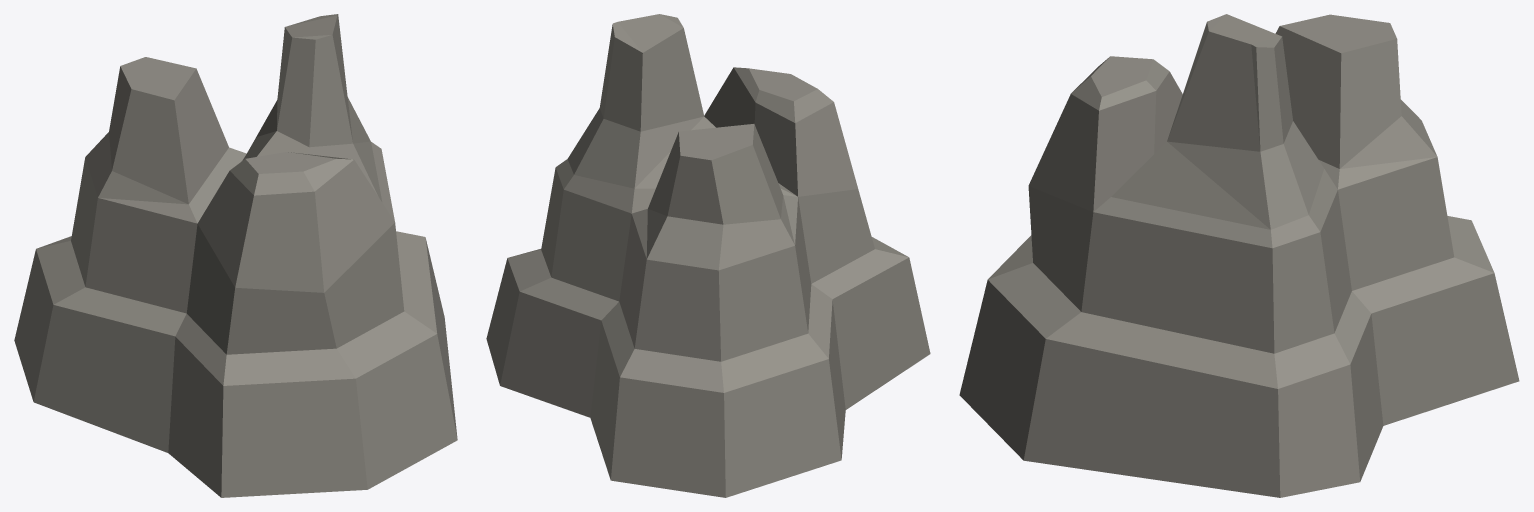
The model's file is Rock_Round_l_07.fbx.
3 views of the same model, side by side, from view 1: azimuth 30°, elevation 25°; view 2: azimuth 150°, elevation 25°; view 3: azimuth 270°, elevation 25° (orthographic). The views are drawn at different scales.
Visible parts, largest first — view 1: Rock_Round_l_07; view 2: Rock_Round_l_07; view 3: Rock_Round_l_07.
Part boxes in pixels (x1=…): Rock_Round_l_07: x1=14, y1=14, x2=457, y2=497; Rock_Round_l_07: x1=486, y1=14, x2=930, y2=497; Rock_Round_l_07: x1=959, y1=14, x2=1519, y2=497.
Size of the model in its own units: 2.37 by 2.15 by 2.63.
